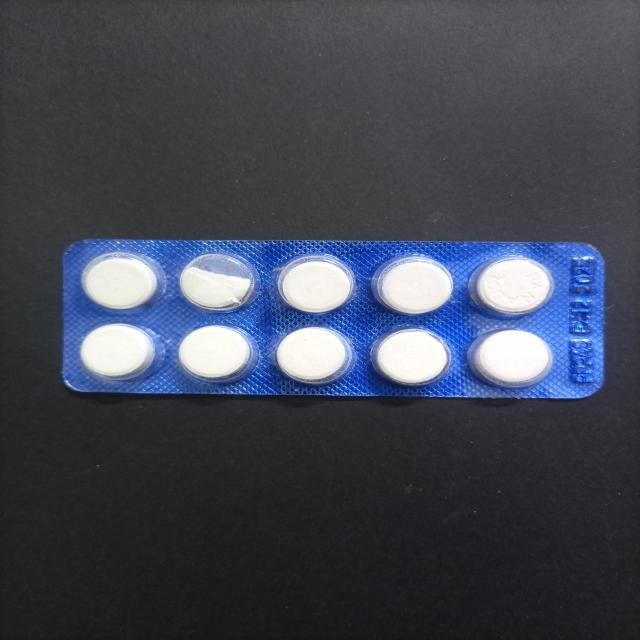defect: (177, 248, 262, 316)
